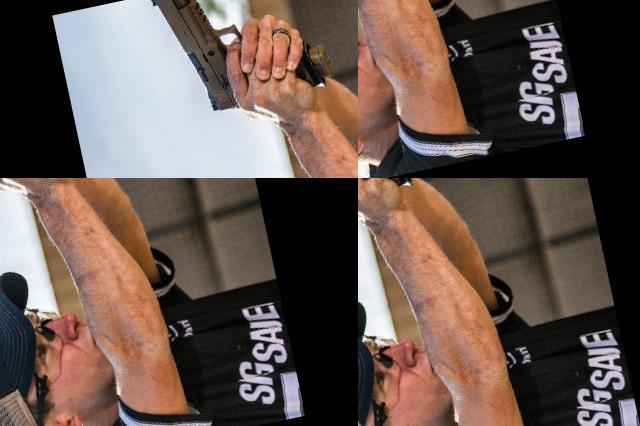handgun: (358, 178, 458, 260), (358, 107, 433, 178), (152, 146, 259, 178), (0, 387, 22, 426)
